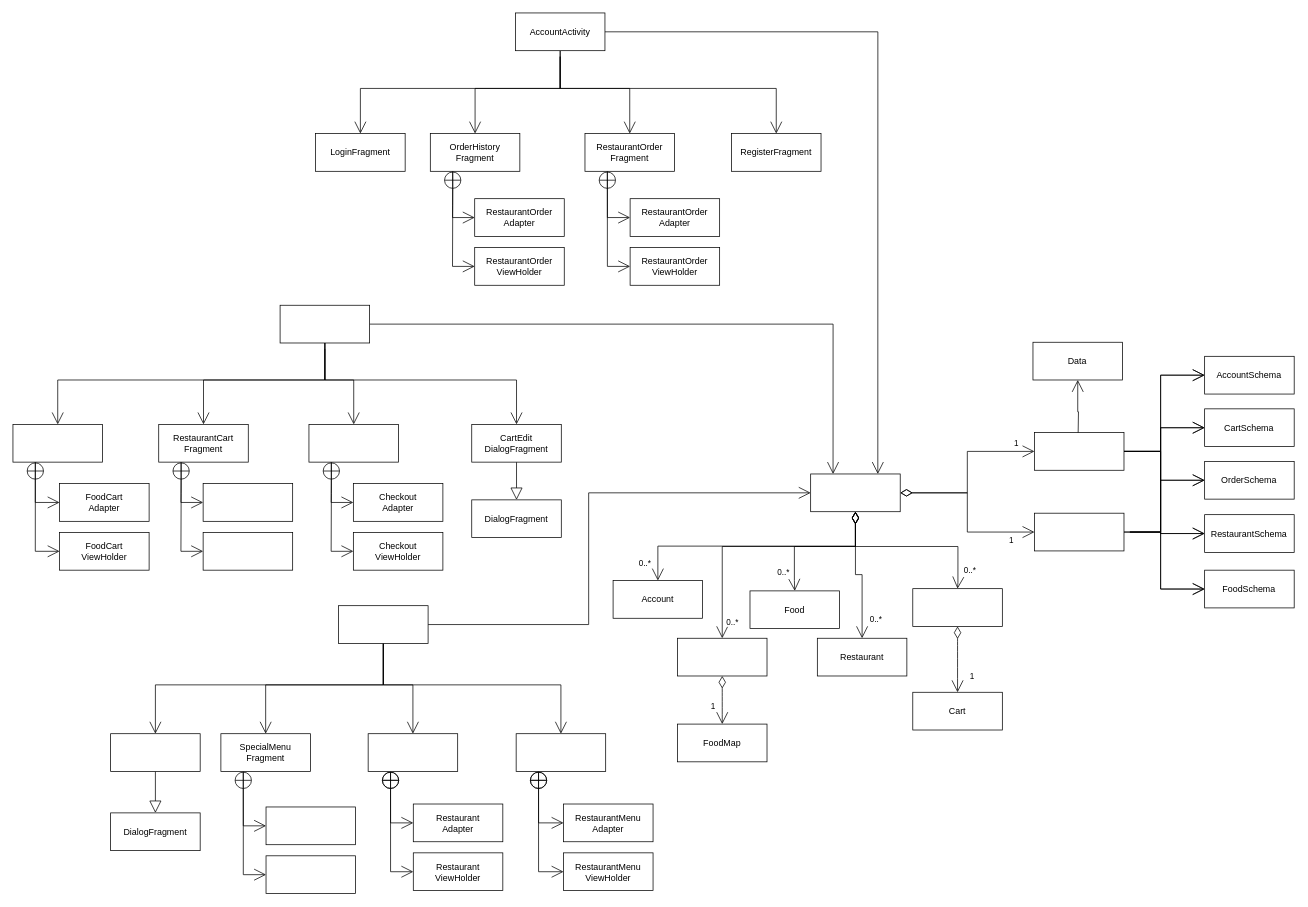
The diagram is 1308 pixels wide and 907 high, and some of its shapes have lost their labels. Each missing label, with the centre of its shape:
"CartActivity" goes at point (324, 324).
"CartDB" goes at point (957, 607).
"CartDialog Fragment" goes at point (155, 752).
"CheckoutFragment" goes at point (353, 443).
"FoodCart Fragment" goes at point (57, 443).
"MainActivity" goes at point (383, 624).
"Order" goes at point (722, 657).
"QuickBitesDbCursor" goes at point (1079, 531).
"QuickBitesDbHelper" goes at point (1079, 451).
"QuickBitesDbModel" goes at point (855, 492).
"Restaurant Fragment" goes at point (412, 752).
"RestaurantCart Adapter" goes at point (247, 502).
"RestaurantCart ViewHolder" goes at point (247, 551).
"RestaurantMenu Fragment" goes at point (560, 752).
"SpecialMenu Adapter" goes at point (310, 825).
"SpecialMenu ViewHolder" goes at point (310, 874).
